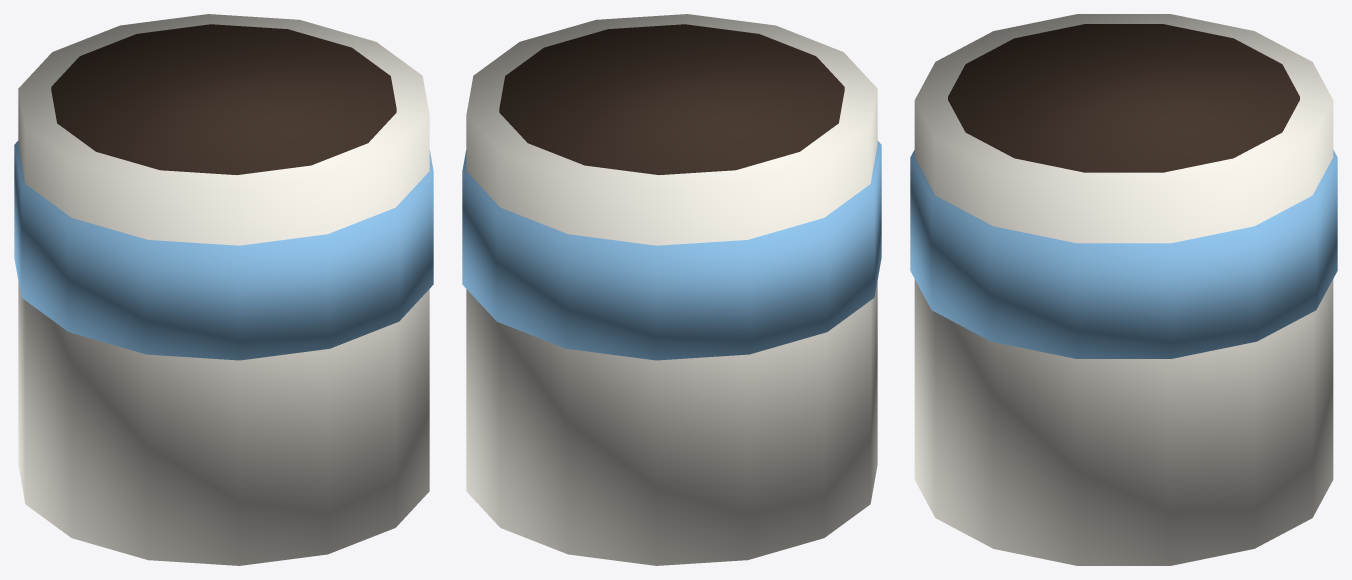
File: mug_hand.glb
The picture shows the model from 3 angles, left to right: view 1: azimuth 30°, elevation 25°; view 2: azimuth 150°, elevation 25°; view 3: azimuth 270°, elevation 25°; orthographic projection.
Visible parts, largest first — view 1: mug_hand; view 2: mug_hand; view 3: mug_hand.
Boxes of the visible parts, x1=… form: mug_hand: x1=14, y1=14, x2=433, y2=565; mug_hand: x1=462, y1=14, x2=881, y2=565; mug_hand: x1=910, y1=14, x2=1337, y2=565.
Size of the model in its own units: 0.0994 by 0.101 by 0.102.
